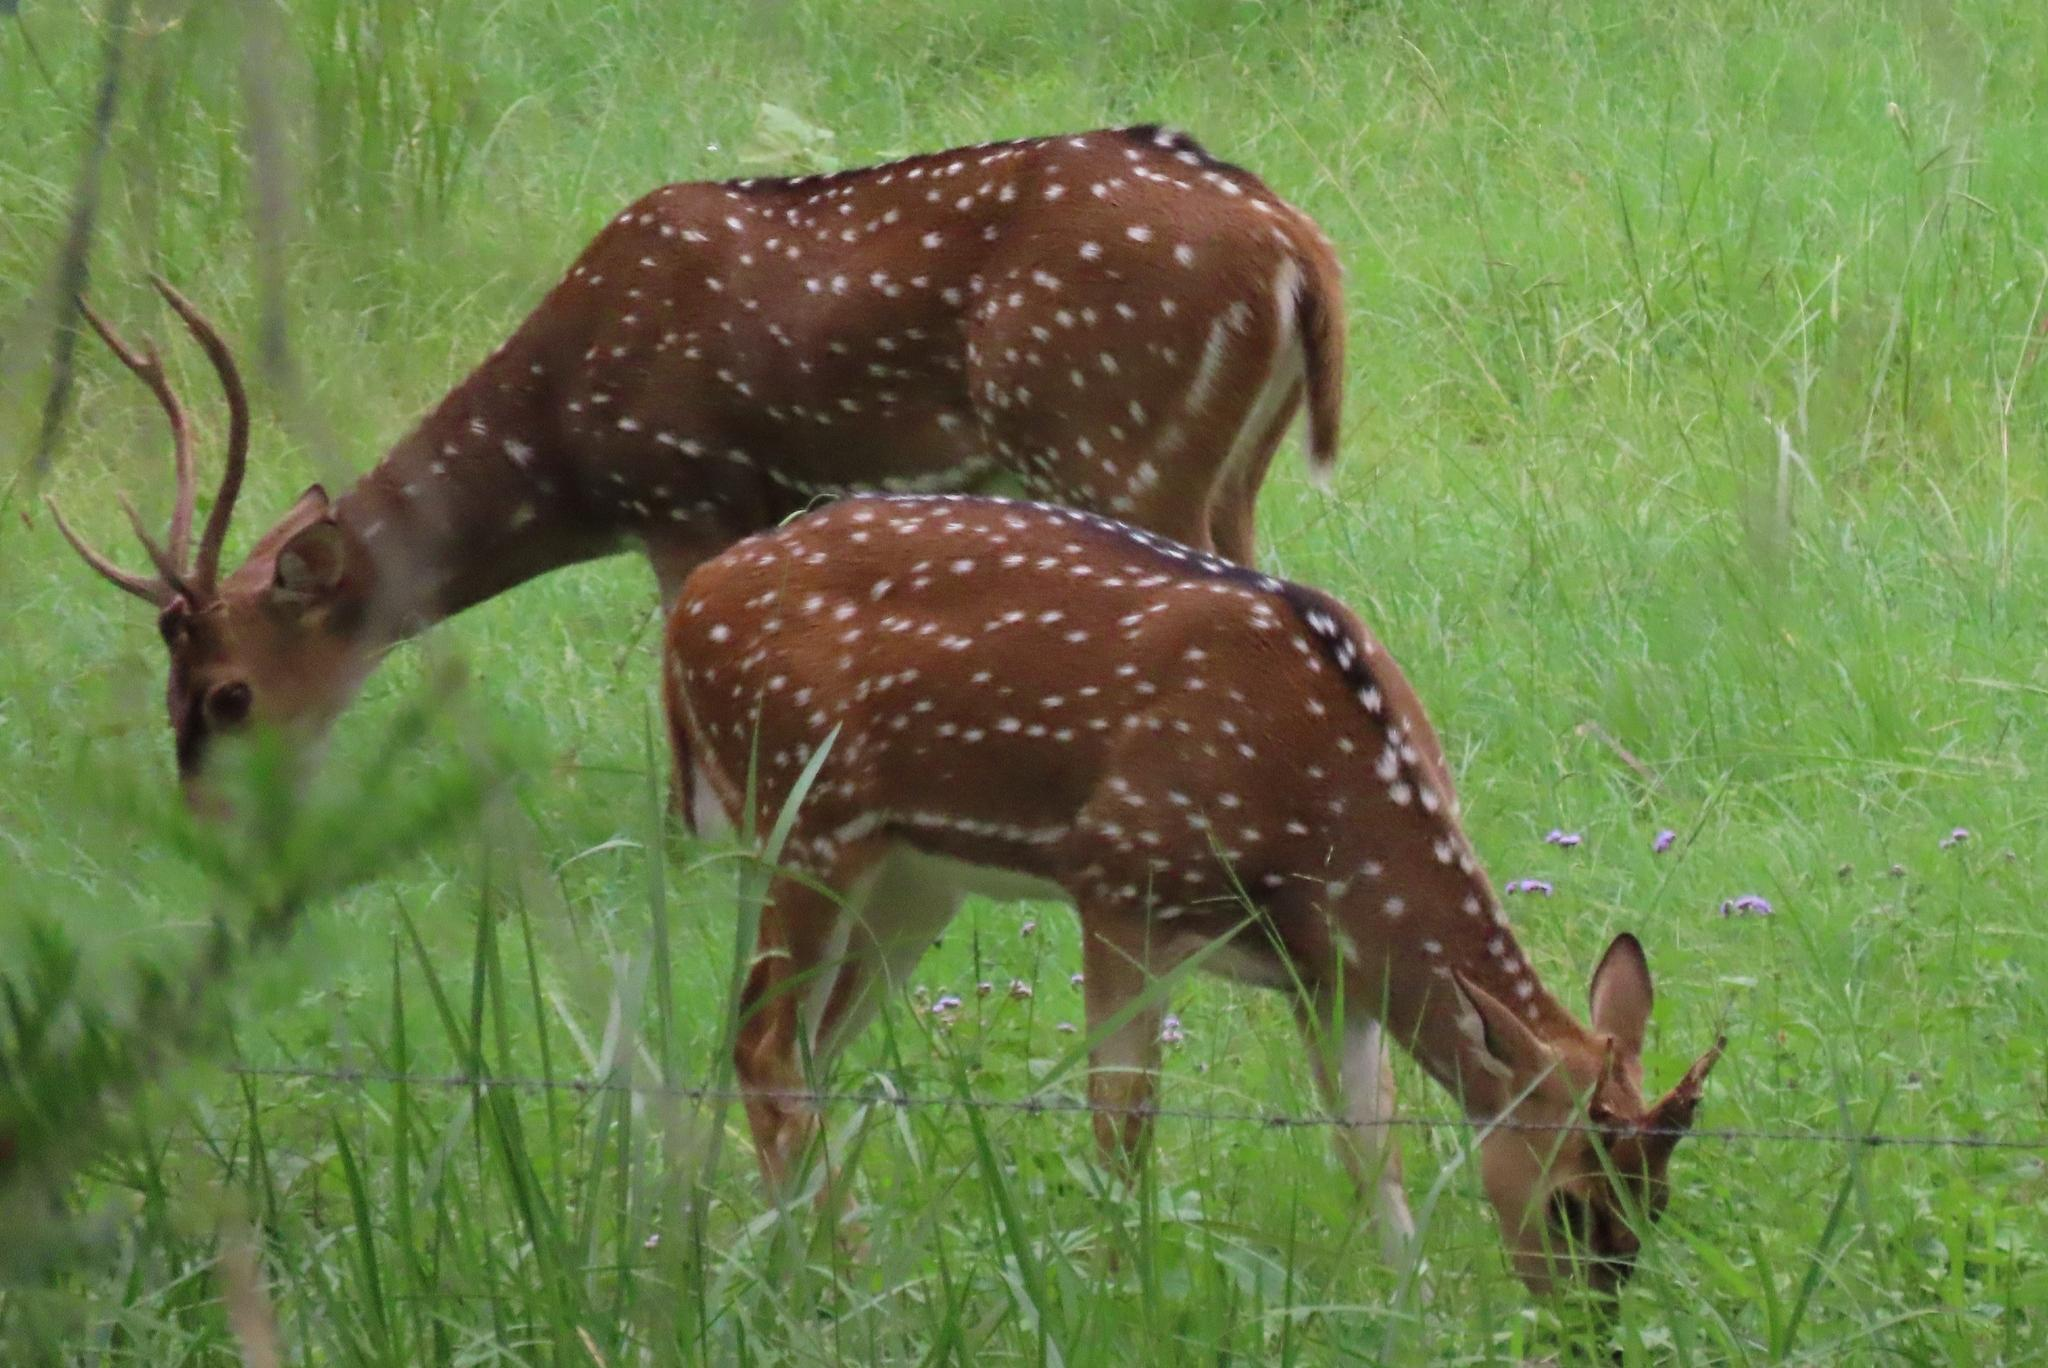Deer: (52, 124, 1344, 799), (664, 495, 1718, 1295)
